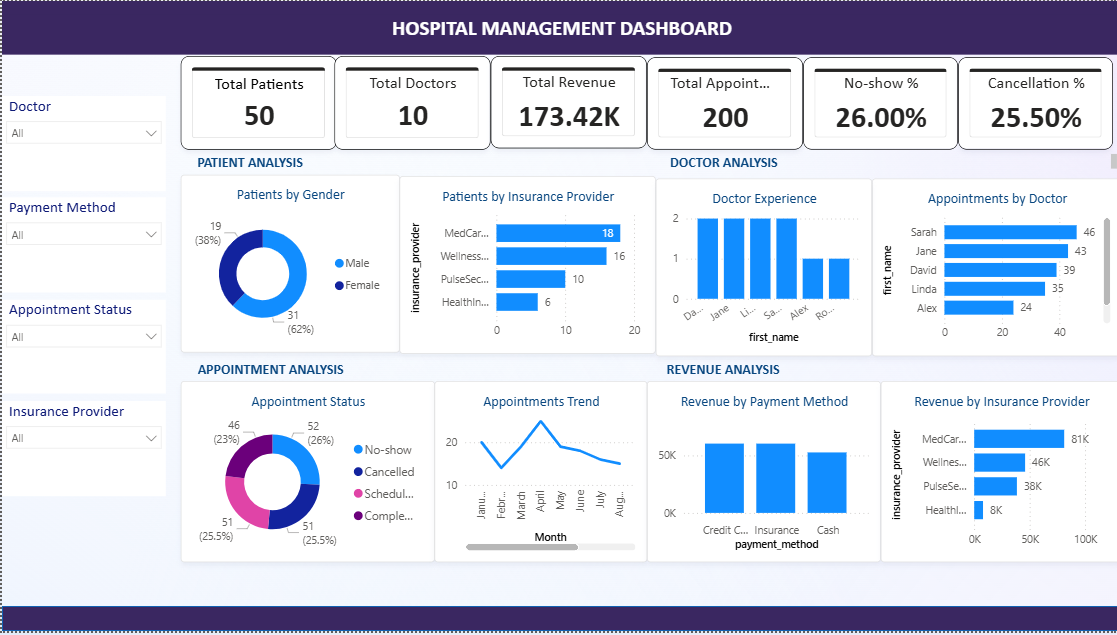

The page's visual inventory and layout, read from the dashboard file:
{"tool":"powerbi","page":{"name":"Page 1","canvas":[1280,720],"ordinal":0},"visuals":[{"type":"cardVisual","fields":{"Data":["patients.Total Patients"]},"box":[204.3,62.9,178.6,107.1],"z":0},{"type":"cardVisual","fields":{"Data":["doctors.Total Doctors"]},"box":[380,62.9,178.6,107.1],"z":1000},{"type":"cardVisual","fields":{"Data":["billing.Total Revenue"]},"box":[558.6,62.9,178.6,105.7],"z":2000},{"type":"cardVisual","fields":{"Data":["appointments.Total Appointments"]},"box":[737.1,64.3,178.6,105.7],"z":3000},{"type":"cardVisual","fields":{"Data":["appointments.No-show %"]},"box":[915.7,64.3,177.1,105.7],"z":4000},{"type":"cardVisual","fields":{"Data":["appointments.Cancellation %"]},"box":[1092.9,64.3,177.1,105.7],"z":5000},{"type":"donutChart","title":"Patients by Gender","fields":{"Category":["patients.gender"],"Y":["patients.Total Patients"]},"box":[204.3,198.6,250,202.9],"z":6000},{"type":"clusteredBarChart","title":"Patients by Insurance Provider","fields":{"Category":["patients.insurance_provider"],"Y":["patients.Total Patients"]},"box":[454.3,200,292.9,202.9],"z":7000},{"type":"clusteredBarChart","title":" Appointments by Doctor","fields":{"Category":["doctors.first_name"],"Y":["appointments.Total Appointments"]},"box":[994.3,202.9,285.7,202.9],"z":8000},{"type":"donutChart","title":"Appointment Status","fields":{"Category":["appointments.status"],"Y":["appointments.Total Appointments"]},"box":[204.3,434.3,290,207.1],"z":9000},{"type":"lineChart","title":"Appointments Trend","fields":{"Y":["appointments.Total Appointments"],"Category":["appointments.appointment_date.Variation.Date Hierarchy.Month"]},"box":[494.3,434.3,242.9,207.1],"z":10000},{"type":"clusteredColumnChart","title":"Revenue by Payment Method","fields":{"Category":["billing.payment_method"],"Y":["billing.Total Revenue"]},"box":[737.1,434.3,267.1,207.1],"z":11000},{"type":"clusteredBarChart","title":"Revenue by Insurance Provider","fields":{"Category":["patients.insurance_provider"],"Y":["billing.Total Revenue"]},"box":[1004.3,434.3,275.7,207.1],"z":12000},{"type":"slicer","fields":{"Values":["doctors.first_name"]},"box":[0,108.6,187.1,108.6],"z":13000},{"type":"slicer","fields":{"Values":["patients.insurance_provider"]},"box":[0,457.1,187.1,108.6],"z":14000},{"type":"slicer","fields":{"Values":["billing.payment_method"]},"box":[0,224.3,187.1,108.6],"z":15000},{"type":"slicer","fields":{"Values":["appointments.status"]},"box":[0,341.4,187.1,107.1],"z":16000},{"type":"shape","box":[0,691.4,1280,28.6],"z":17000},{"type":"shape","box":[0,0,1280,31.4],"z":18000},{"type":"shape","title":"HOSPITAL MANAGEMENT DASHBOARD ","box":[0,15.7,1280,45.7],"z":19000},{"type":"textbox","box":[218.6,170,1061.4,32.9],"z":20000},{"type":"textbox","box":[218.6,405.7,1061.4,32.9],"z":21000},{"type":"clusteredColumnChart","title":"Doctor Experience","fields":{"Category":["doctors.first_name"],"Y":["CountNonNull(doctors.years_experience)"]},"box":[747.1,202.9,247.1,202.9],"z":22000}]}

Visuals, with their boxes in screenshot pixels (x1, y1, x2, y2), scaled from the page's 1280x720 canvas onto the 1117x635 screenshot:
cardVisual - patients.Total Patients: BBox(178, 55, 334, 150)
cardVisual - doctors.Total Doctors: BBox(332, 55, 487, 150)
cardVisual - billing.Total Revenue: BBox(487, 55, 643, 149)
cardVisual - appointments.Total Appointments: BBox(643, 57, 799, 150)
cardVisual - appointments.No-show %: BBox(799, 57, 954, 150)
cardVisual - appointments.Cancellation %: BBox(954, 57, 1108, 150)
"Patients by Gender" donutChart: BBox(178, 175, 396, 354)
"Patients by Insurance Provider" clusteredBarChart: BBox(396, 176, 652, 355)
" Appointments by Doctor" clusteredBarChart: BBox(868, 179, 1116, 358)
"Appointment Status" donutChart: BBox(178, 383, 431, 566)
"Appointments Trend" lineChart: BBox(431, 383, 643, 566)
"Revenue by Payment Method" clusteredColumnChart: BBox(643, 383, 876, 566)
"Revenue by Insurance Provider" clusteredBarChart: BBox(876, 383, 1116, 566)
slicer - doctors.first_name: BBox(0, 96, 163, 192)
slicer - patients.insurance_provider: BBox(0, 403, 163, 499)
slicer - billing.payment_method: BBox(0, 198, 163, 294)
slicer - appointments.status: BBox(0, 301, 163, 396)
shape: BBox(0, 610, 1116, 634)
shape: BBox(0, 0, 1116, 28)
"HOSPITAL MANAGEMENT DASHBOARD " shape: BBox(0, 14, 1116, 54)
textbox: BBox(191, 150, 1116, 179)
textbox: BBox(191, 358, 1116, 387)
"Doctor Experience" clusteredColumnChart: BBox(652, 179, 868, 358)
